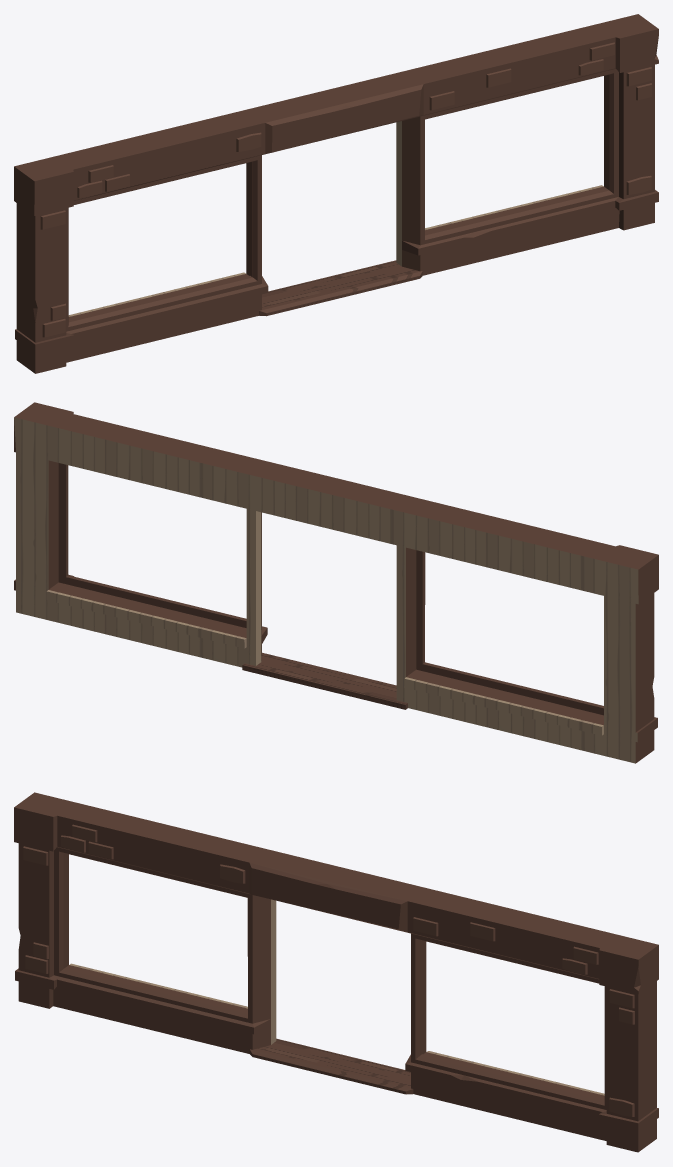
Rendered from SM_Bld_ShopFront_01.obj.
3 views of the same model, one above another, from view 1: azimuth 30°, elevation 25°; view 2: azimuth 150°, elevation 25°; view 3: azimuth 330°, elevation 25° (orthographic).
Parts seen in each view (by area): view 1: SM_Bld_ShopFront_01_0, SM_Bld_ShopFront_01_2, SM_Bld_ShopFront_01_1; view 2: SM_Bld_ShopFront_01_1, SM_Bld_ShopFront_01_0, SM_Bld_ShopFront_01_2; view 3: SM_Bld_ShopFront_01_0, SM_Bld_ShopFront_01_2, SM_Bld_ShopFront_01_1.
Boxes of the visible parts, x1,y1,x2,y2 form: SM_Bld_ShopFront_01_0: (14, 14, 658, 373); SM_Bld_ShopFront_01_2: (259, 260, 422, 316); SM_Bld_ShopFront_01_1: (68, 121, 603, 316); SM_Bld_ShopFront_01_1: (14, 417, 638, 763); SM_Bld_ShopFront_01_0: (14, 402, 658, 763); SM_Bld_ShopFront_01_2: (242, 652, 407, 709); SM_Bld_ShopFront_01_0: (14, 792, 658, 1152); SM_Bld_ShopFront_01_2: (249, 1038, 413, 1094); SM_Bld_ShopFront_01_1: (69, 899, 604, 1095).
Bounding box in the file's own units: 10.08 × 3 × 0.6449.
3 materials, 3 textured.
